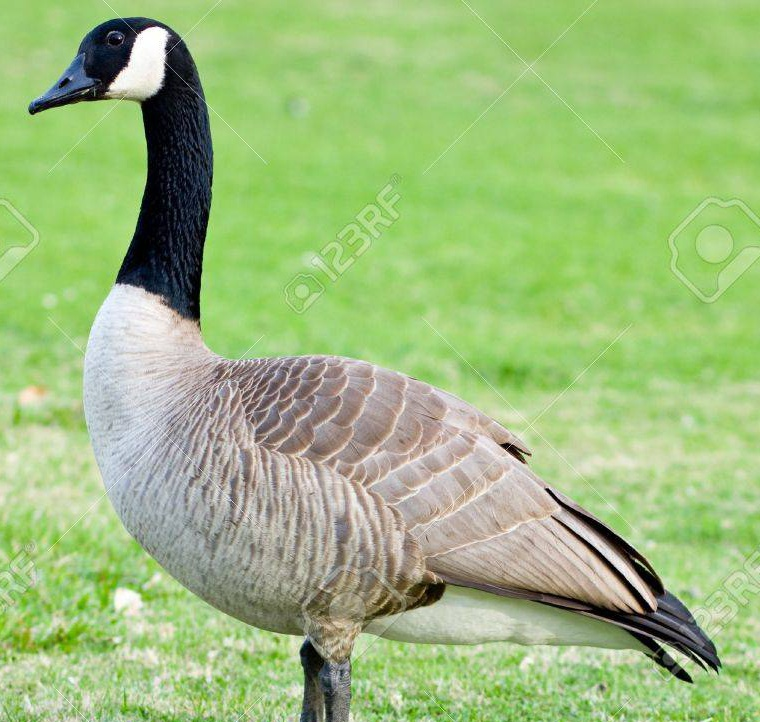goose: (16, 10, 738, 717)
